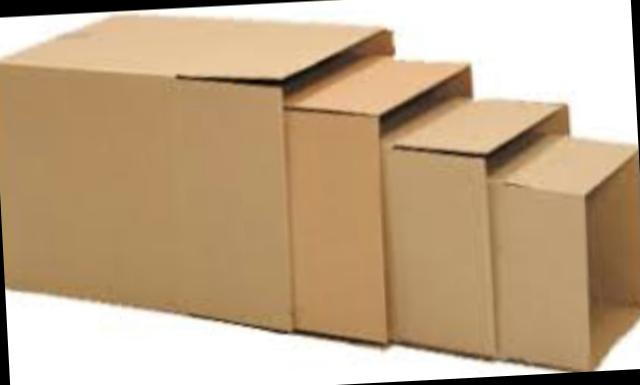cardboard paper: (0, 9, 640, 372)
